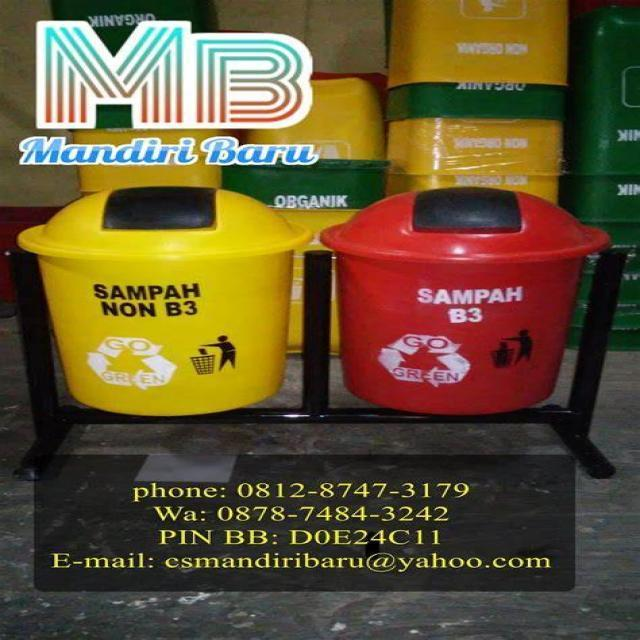garbage container: (1, 170, 352, 445), (332, 165, 640, 442)
